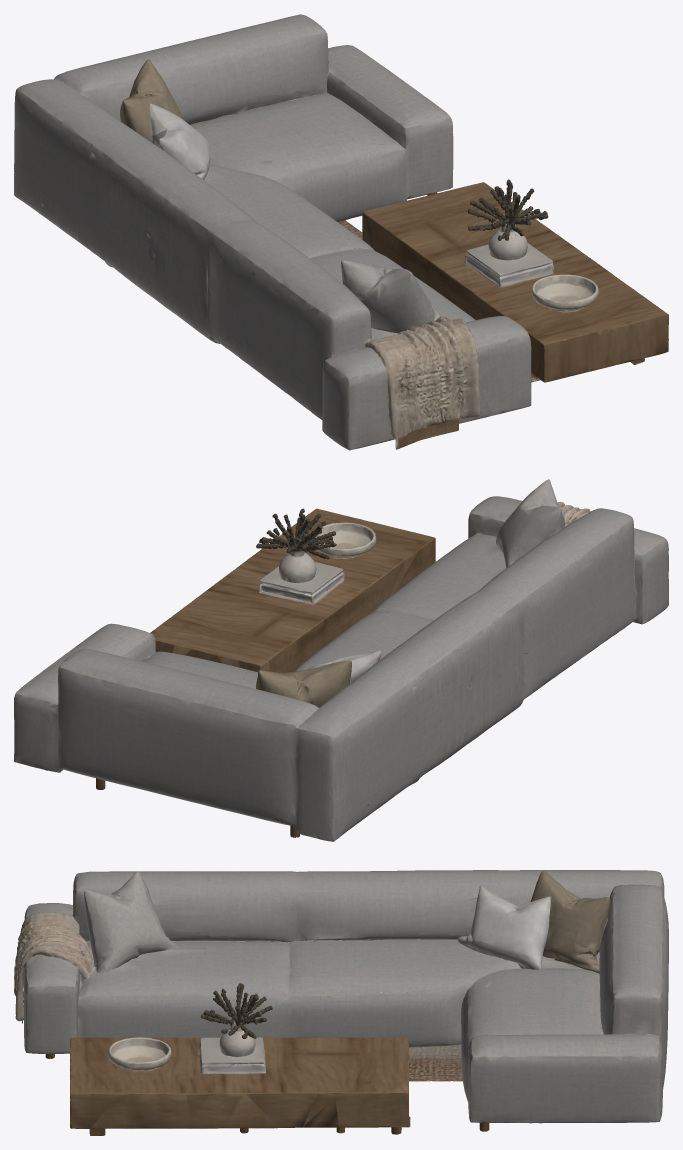
File: generated--sofa.glb
3 views of the same model, one above another, from view 1: azimuth 30°, elevation 25°; view 2: azimuth 150°, elevation 25°; view 3: azimuth 270°, elevation 25° (orthographic). The views are drawn at different scales.
Parts seen in each view (by area): view 1: world; view 2: world; view 3: world.
Part boxes in pixels (bbox=[...]): world: bbox=[14, 14, 668, 450]; world: bbox=[14, 479, 668, 841]; world: bbox=[14, 870, 668, 1135].
Bounding box in the file's own units: 0.5729 × 0.2382 × 1.
1 material, 1 textured.
